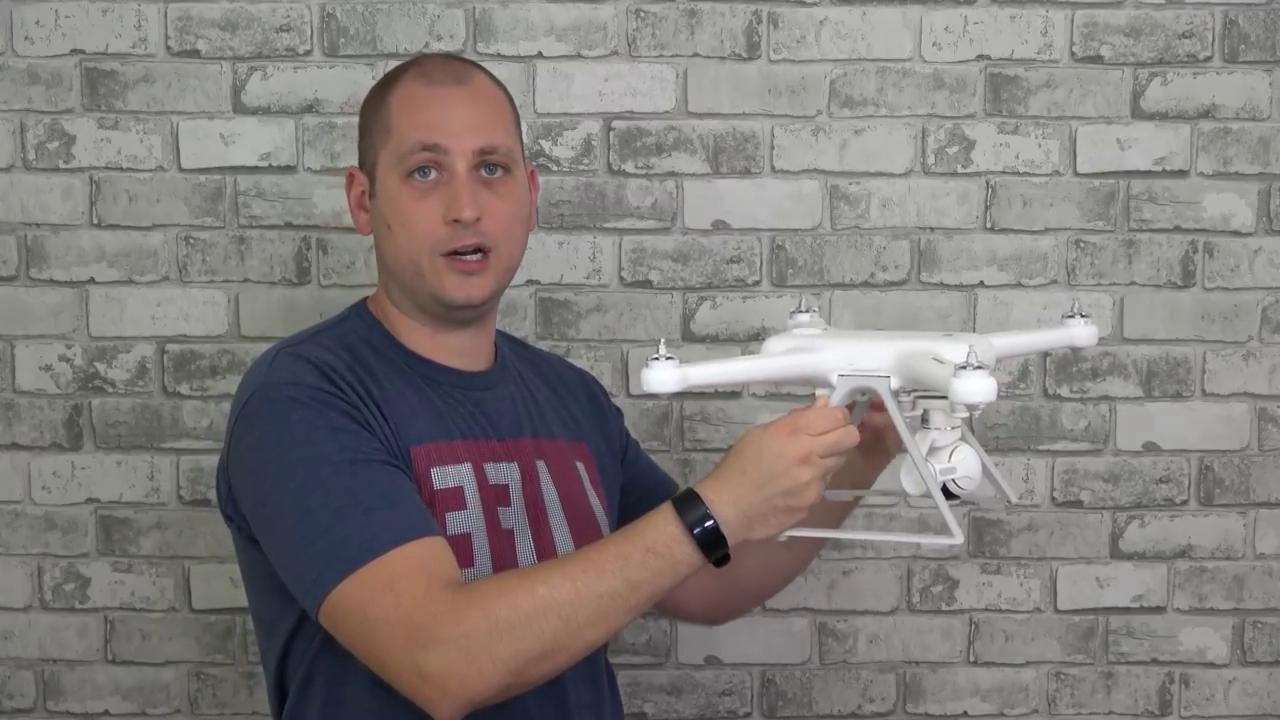drone: (632, 289, 1108, 432)
